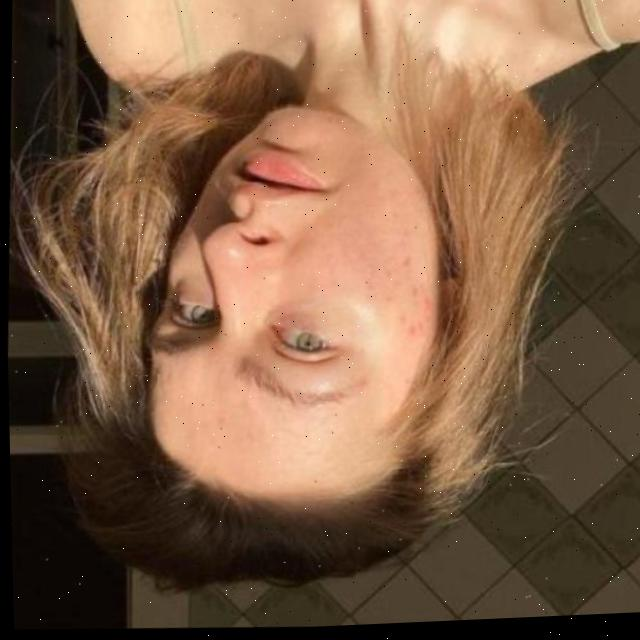Acne: (379, 255, 439, 363)
